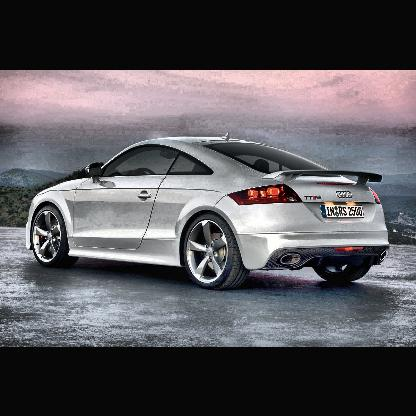Audi TT RS Coupe 2012: (25, 130, 393, 292)
